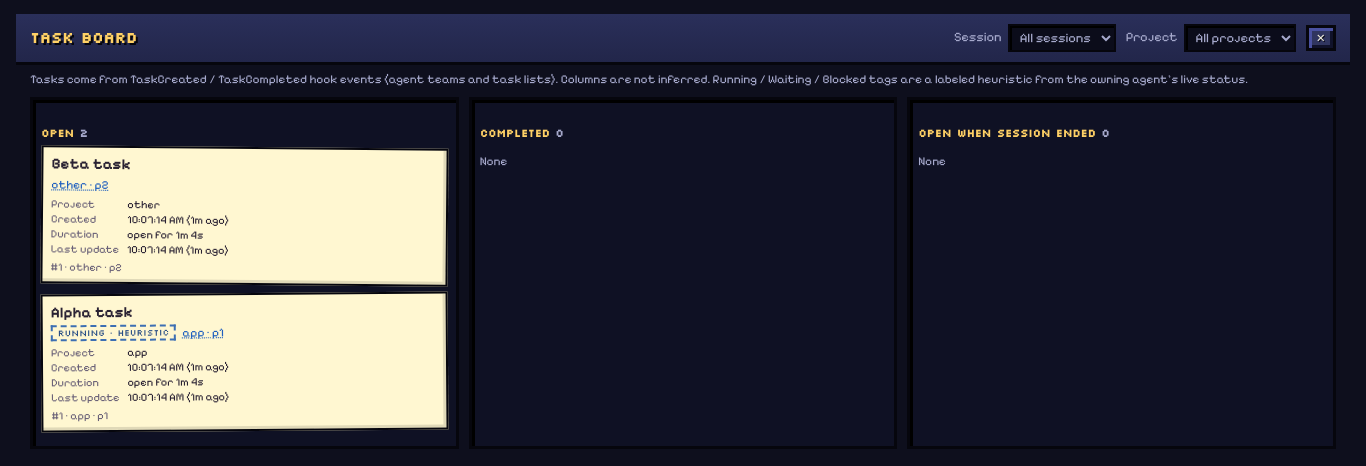
Test case: TaskBoard › marks an open task Running only while its owner is working, and filters by project and session
Check: the text "Running · heuristic" is shown, box [51, 324, 176, 341]
Select "other" in the dropdown named "Filter by project": (1240, 38) [1184, 24, 1296, 52]
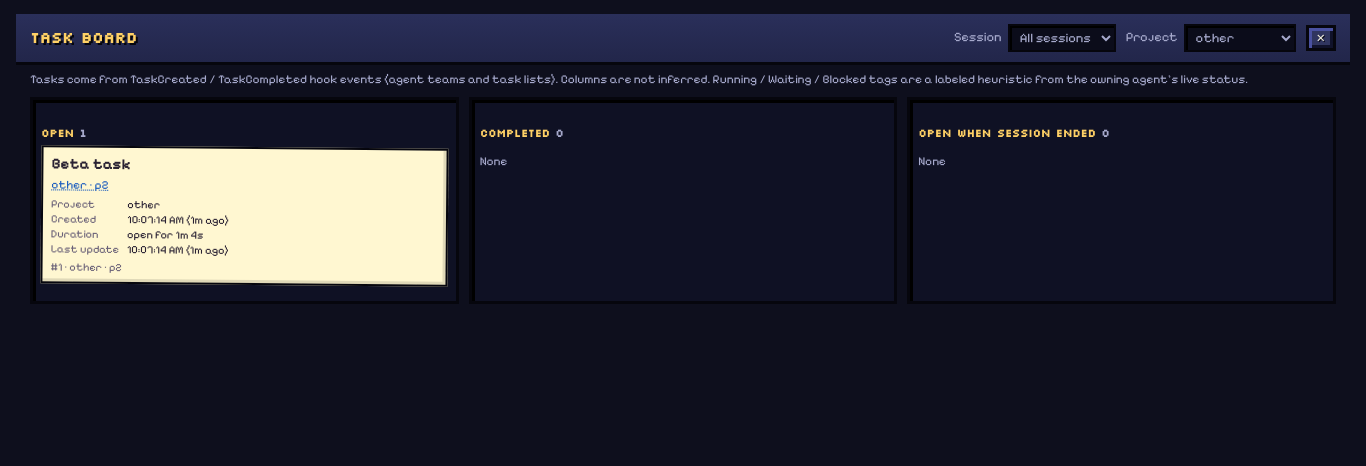
Check: the text "Beta task" is shown, box [51, 154, 131, 173]
Check: the text "Alpha task" is gone
Select "All projects" in the dropdown named "Filter by project": (1240, 38) [1184, 24, 1296, 52]
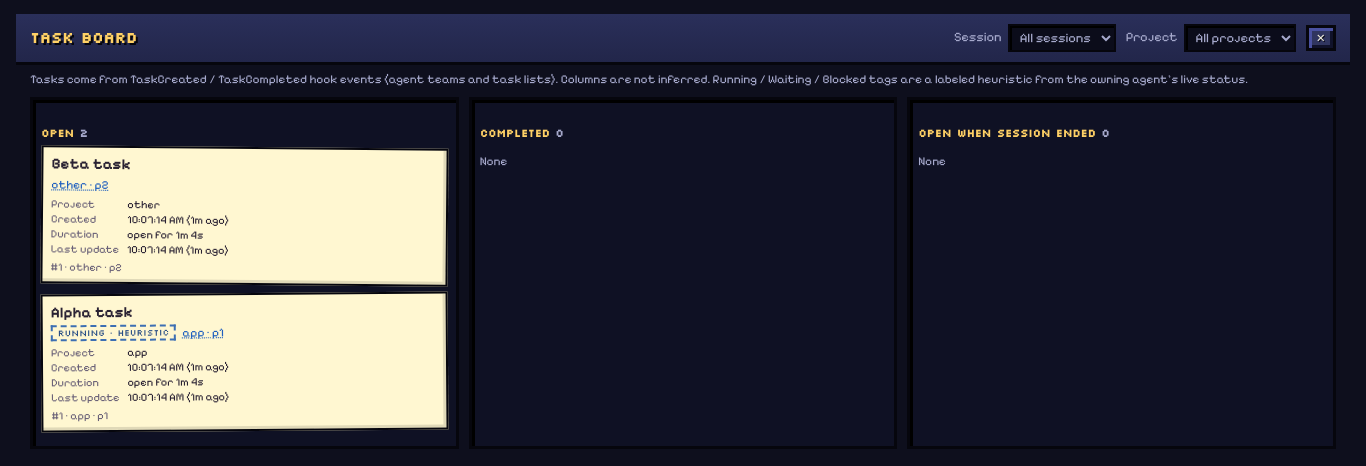
Select "app · p1" in the dropdown named "Filter by session": (1062, 38) [1008, 24, 1116, 52]
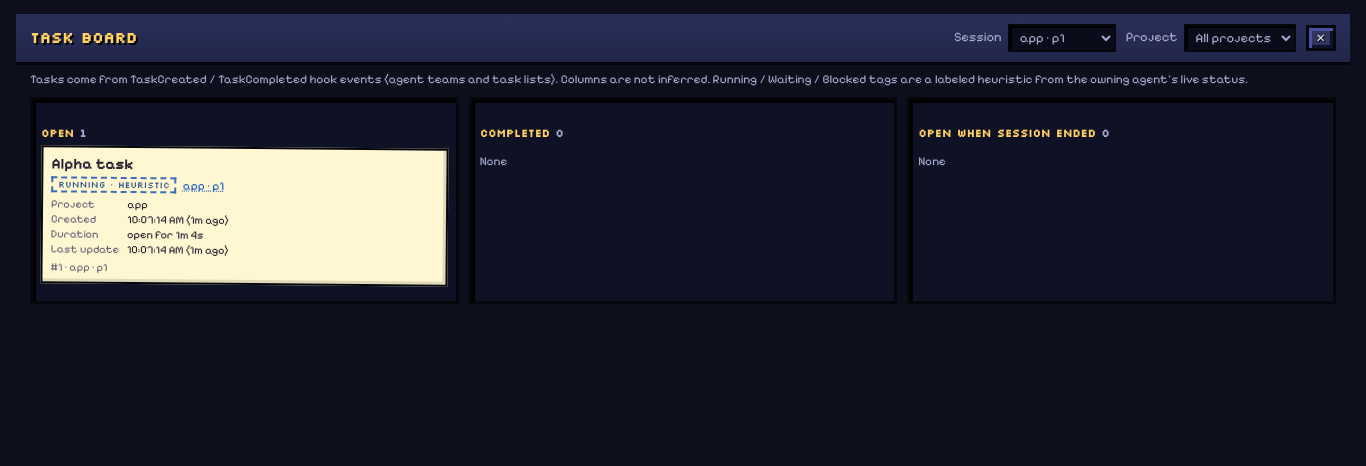
Check: the text "Alpha task" is shown, box [51, 154, 134, 173]
Check: the text "Beta task" is gone
